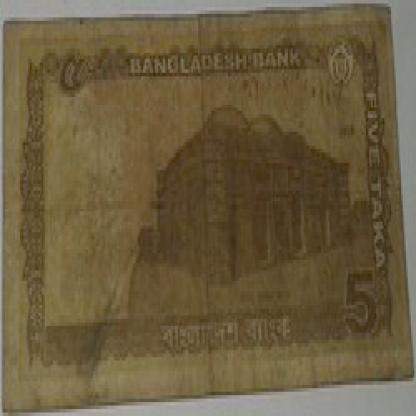Five Taka: (334, 257, 390, 350), (53, 42, 85, 114)
